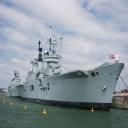Portanaves: (18, 24, 126, 114)
